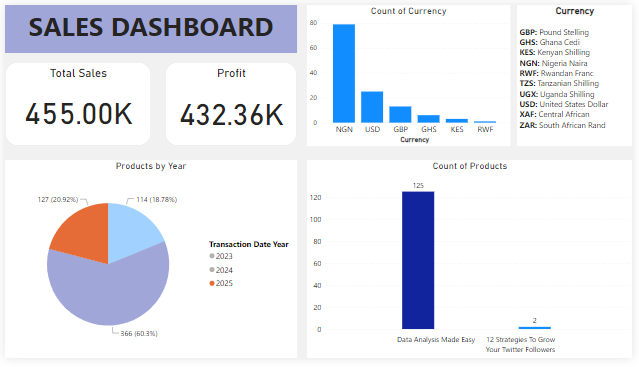

The dashboard page shown, as its layout file describes it:
{"tool":"powerbi","page":{"name":"Page 1","canvas":[1280,720],"ordinal":0},"visuals":[{"type":"textbox","box":[0,0,596.1,98],"z":0},{"type":"textbox","title":"Currency","box":[1044.2,0,236.5,288.5],"z":1000},{"type":"card","title":"Total Sales","fields":{"Values":["Sum(Sales Data csv.Total)"]},"box":[0,117.3,298.1,171.2],"z":2000},{"type":"card","title":"Profit","fields":{"Values":["Sum(Sales Data csv.Your Profit)"]},"box":[326.9,117.3,269.2,171.2],"z":3000},{"type":"clusteredColumnChart","title":"Count of Products ","fields":{"Category":["Sales Data csv.Products"],"Series":["Sales Data csv.Products"],"Y":["CountNonNull(Sales Data csv.Products)"]},"box":[615.4,315.4,665.4,403.8],"z":4000},{"type":"pieChart","title":"Products by Year","fields":{"Category":["Sales Data csv.Transaction Date.Variation.Date Hierarchy.Year"],"Y":["CountNonNull(Sales Data csv.Products)"]},"box":[0,315.4,596.2,403.8],"z":5000},{"type":"clusteredColumnChart","title":"Count of Currency","fields":{"Category":["Sales Data csv.Currency"],"Y":["CountNonNull(Sales Data csv.Currency)"]},"box":[615.4,0,415.4,288.5],"z":6000}]}

Visuals, with their boxes in screenshot pixels (x1, y1, x2, y2), scaled from the page's 1280x720 canvas onto the 639x367 screenshot:
textbox: BBox(0, 0, 298, 50)
"Currency" textbox: BBox(521, 0, 638, 147)
"Total Sales" card: BBox(0, 60, 149, 147)
"Profit" card: BBox(163, 60, 298, 147)
"Count of Products " clusteredColumnChart: BBox(307, 161, 638, 366)
"Products by Year" pieChart: BBox(0, 161, 298, 366)
"Count of Currency" clusteredColumnChart: BBox(307, 0, 515, 147)
